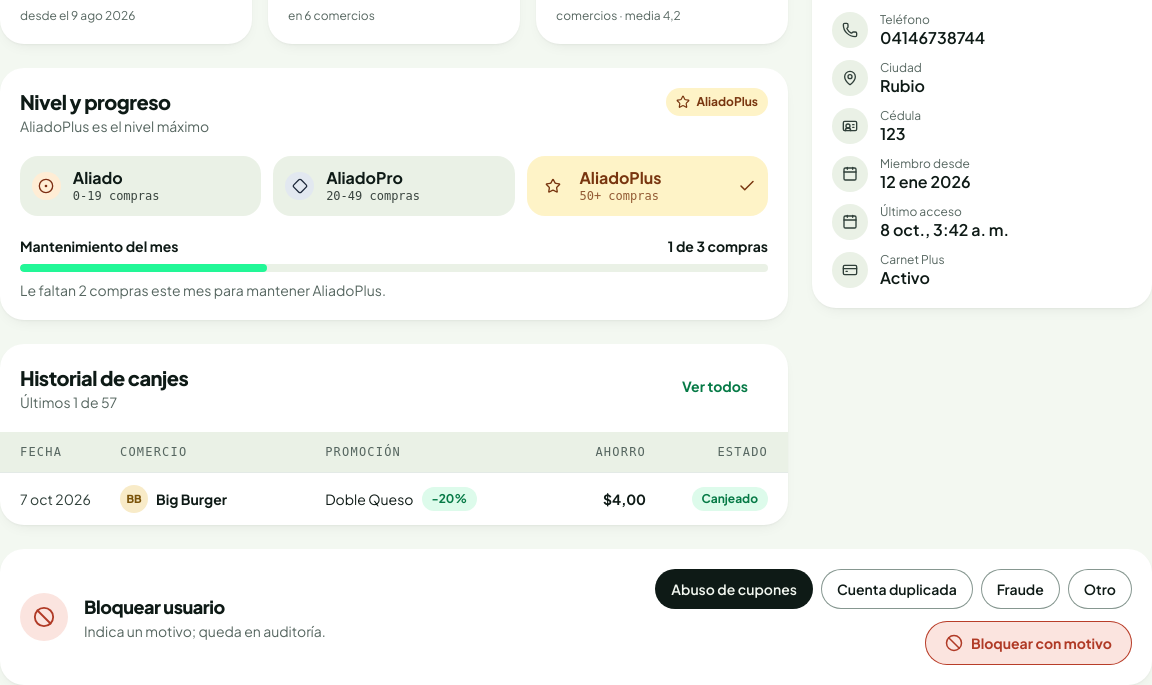
Test: B06 usuario, detalle › bloquear pide motivo y confirmacion y envia el motivo elegido
(page scrolled)
What coordinates should you click on to do the following:
click the radio button labelled "Fraude"
I would click on:
 (1020, 589)
Its box is [981,569,1060,609].
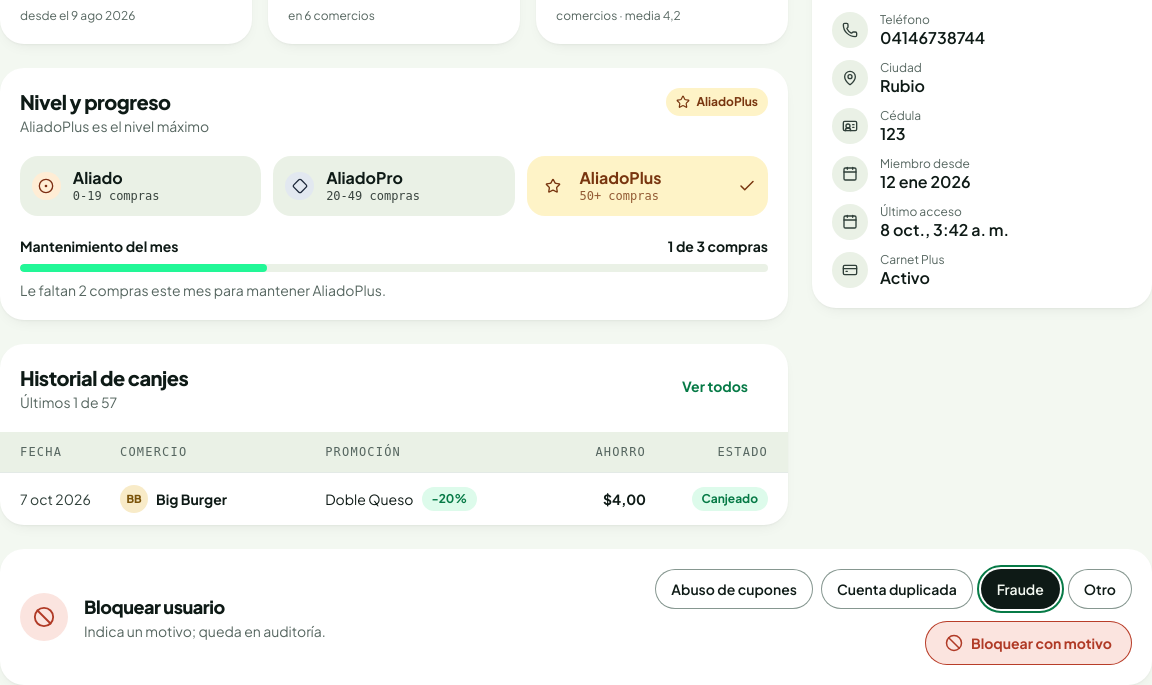
What coordinates should you click on to do the following:
click the button "Bloquear con motivo"
I would click on:
 (1028, 643)
Its box is [925,621,1132,665].
(page scrolled)
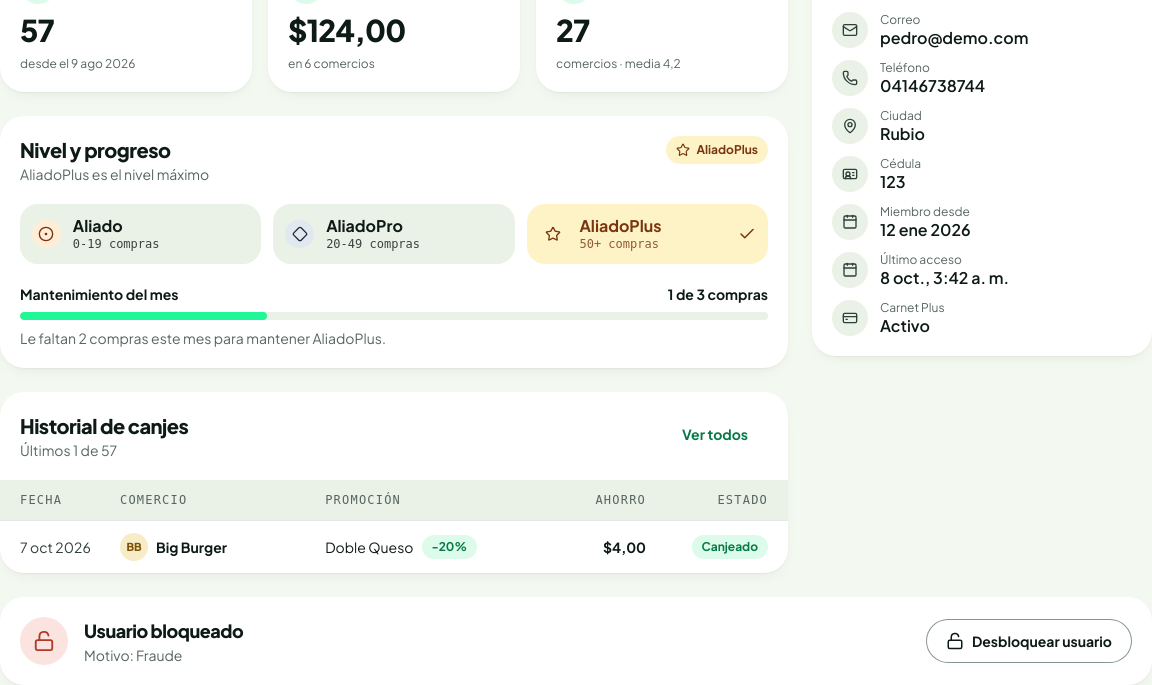
Result: the text "Motivo: Fraude" is shown at [84,646,182,664]
